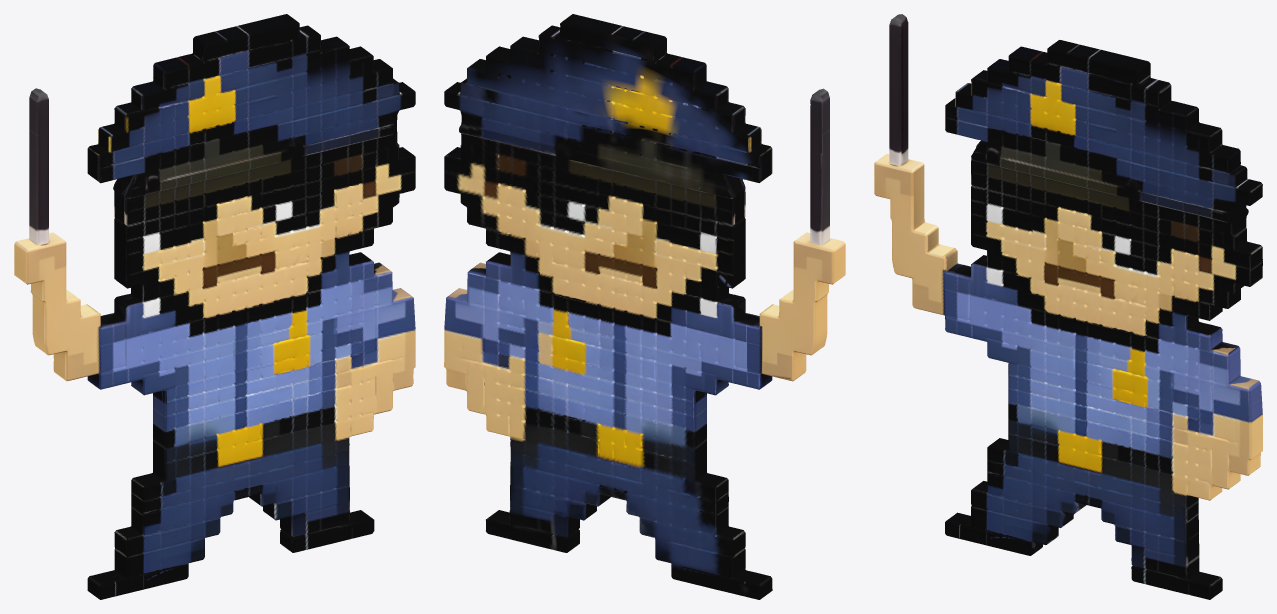
Rendered from cop_shaded.glb.
3 views of the same model, side by side, from view 1: azimuth 30°, elevation 25°; view 2: azimuth 150°, elevation 25°; view 3: azimuth 330°, elevation 25° (orthographic). The views are drawn at different scales.
Visible parts, largest first — view 1: model; view 2: model; view 3: model.
Part boxes in pixels (bbox=[...]): model: bbox=[14, 14, 415, 599]; model: bbox=[444, 14, 845, 599]; model: bbox=[874, 14, 1262, 599].
Bounding box in the file's own units: 1.47 × 1.9 × 0.1184.
1 material, 1 textured.
